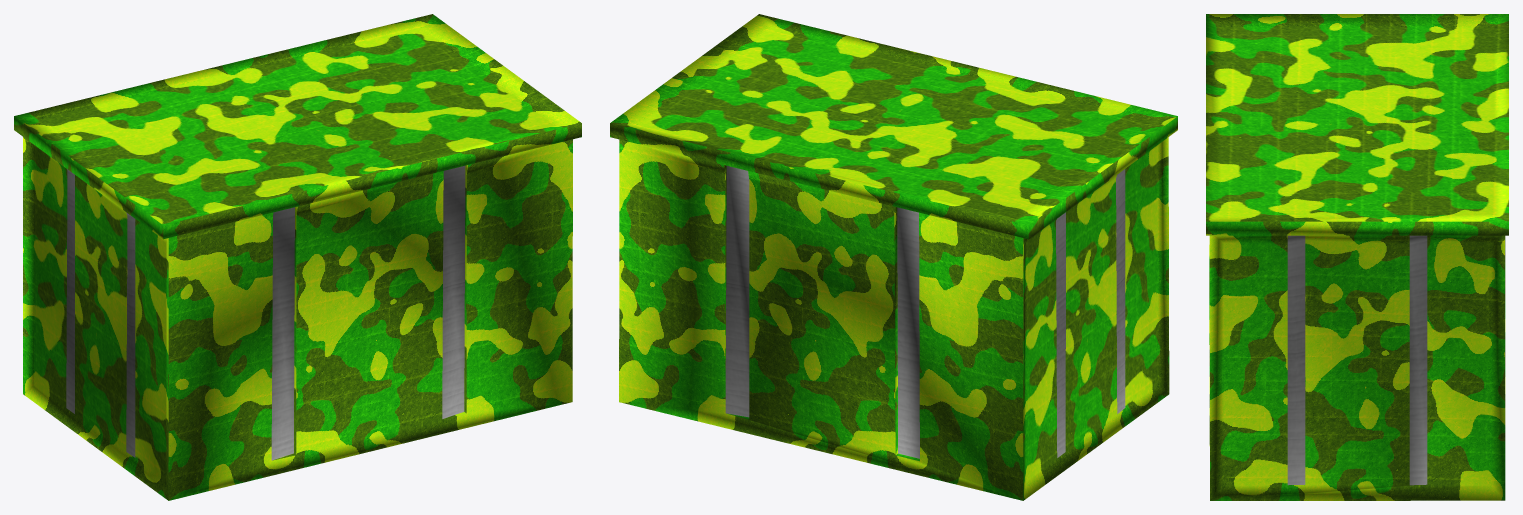
Rendered from item_ammobox.obj.
3 renders of one model, left to right at view 1: azimuth 30°, elevation 25°; view 2: azimuth 150°, elevation 25°; view 3: azimuth 270°, elevation 25°, orthographic.
Visible parts, largest first — view 1: Cube_Cube.001; view 2: Cube_Cube.001; view 3: Cube_Cube.001.
Boxes of the visible parts, <box> form: Cube_Cube.001: <box>14,14,581,500</box>; Cube_Cube.001: <box>610,14,1177,500</box>; Cube_Cube.001: <box>1206,14,1508,500</box>.
Bounding box in the file's own units: 0.3113 × 0.198 × 0.192.
